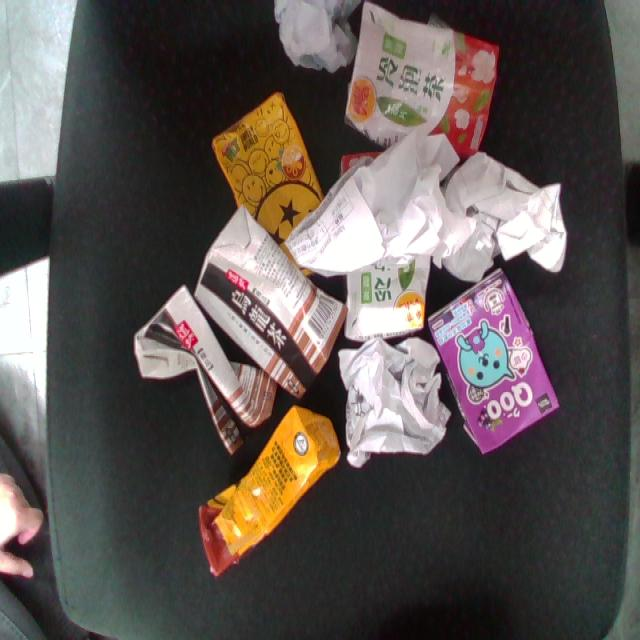juicebox: (147, 184, 396, 430), (146, 379, 382, 608), (399, 241, 594, 477), (98, 265, 304, 478), (189, 70, 365, 316), (318, 0, 523, 182), (335, 132, 439, 348)
paper: (263, 114, 509, 321), (320, 317, 459, 502), (434, 138, 578, 291)
